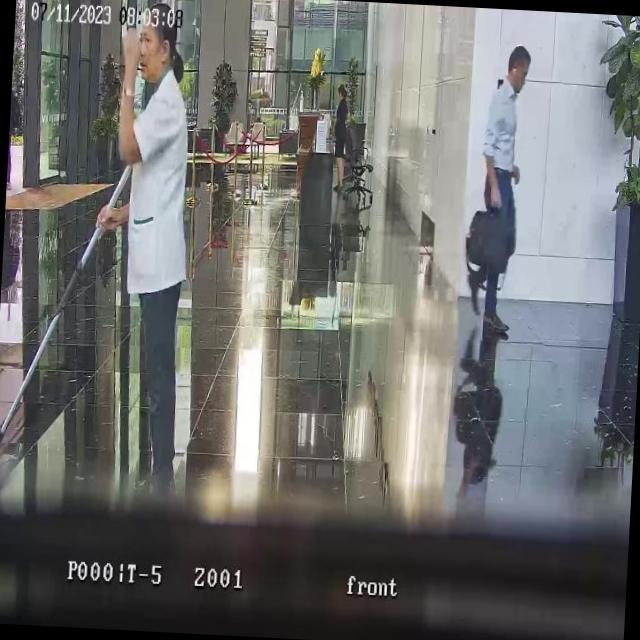person: (83, 0, 201, 495), (462, 44, 532, 335), (330, 84, 353, 192), (6, 88, 16, 190)
